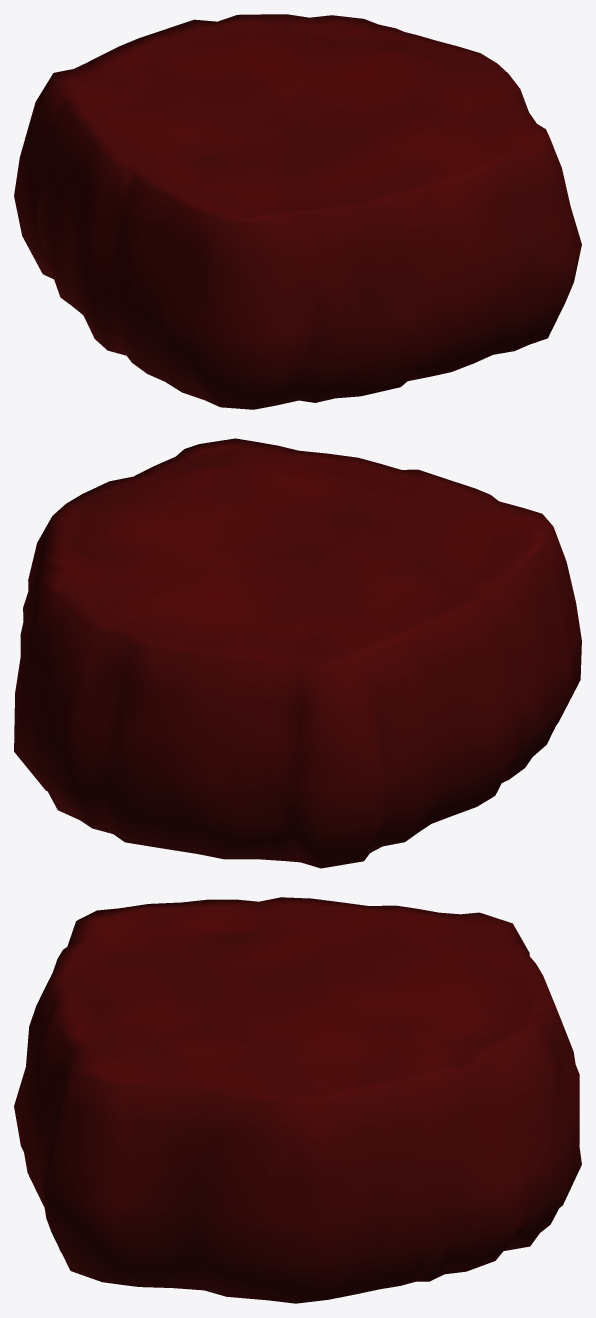
The model's file is geology-landforms-rockmesamedium_v3.fbx.
3 renders of one model, top to bottom at view 1: azimuth 30°, elevation 25°; view 2: azimuth 150°, elevation 25°; view 3: azimuth 270°, elevation 25°, orthographic. The views are drawn at different scales.
Parts seen in each view (by area): view 1: RockMesaMedium_v3; view 2: RockMesaMedium_v3; view 3: RockMesaMedium_v3.
Part boxes in pixels (left/top/right/bottom): RockMesaMedium_v3: left=14, top=14, right=581, bottom=409; RockMesaMedium_v3: left=14, top=438, right=581, bottom=868; RockMesaMedium_v3: left=14, top=897, right=581, bottom=1303.
Bounding box in the file's own units: 49 × 21.2 × 51.49.
